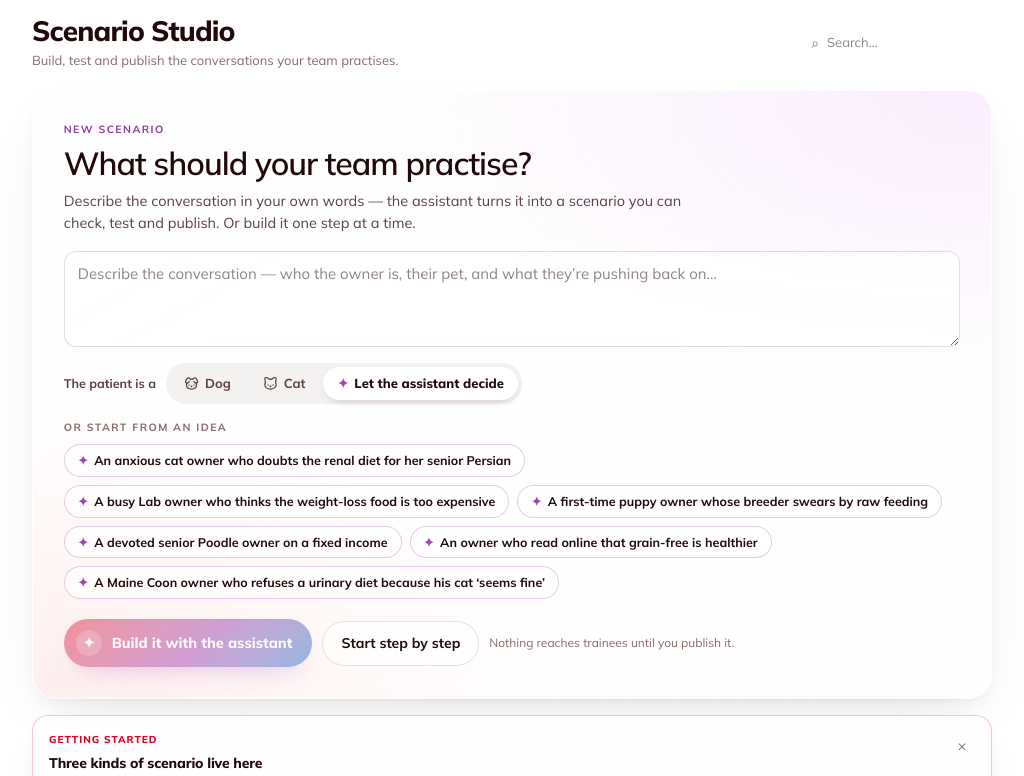
it: StudioEditor › won’t publish a scenario missing its core answers — it opens the checklist instead
(page scrolled)
Click the button "Start step by step".
click(401, 643)  # box [322,621,479,666]
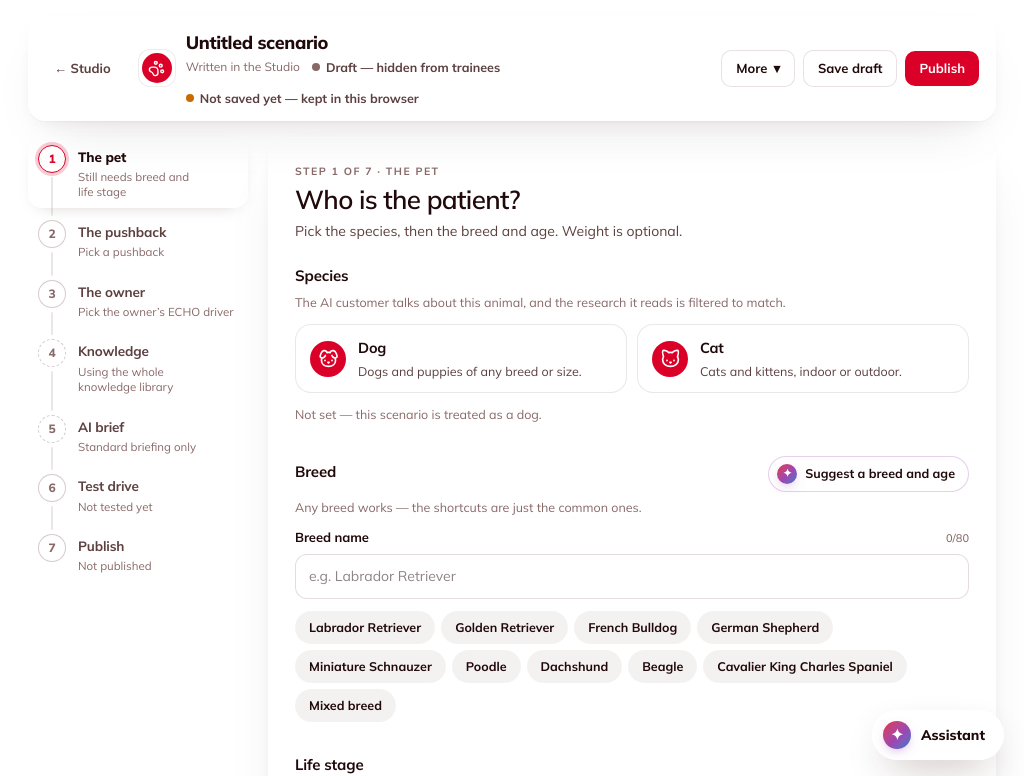
Click the button "Publish".
click(942, 68)  # box [906,50,979,86]
(page scrolled)
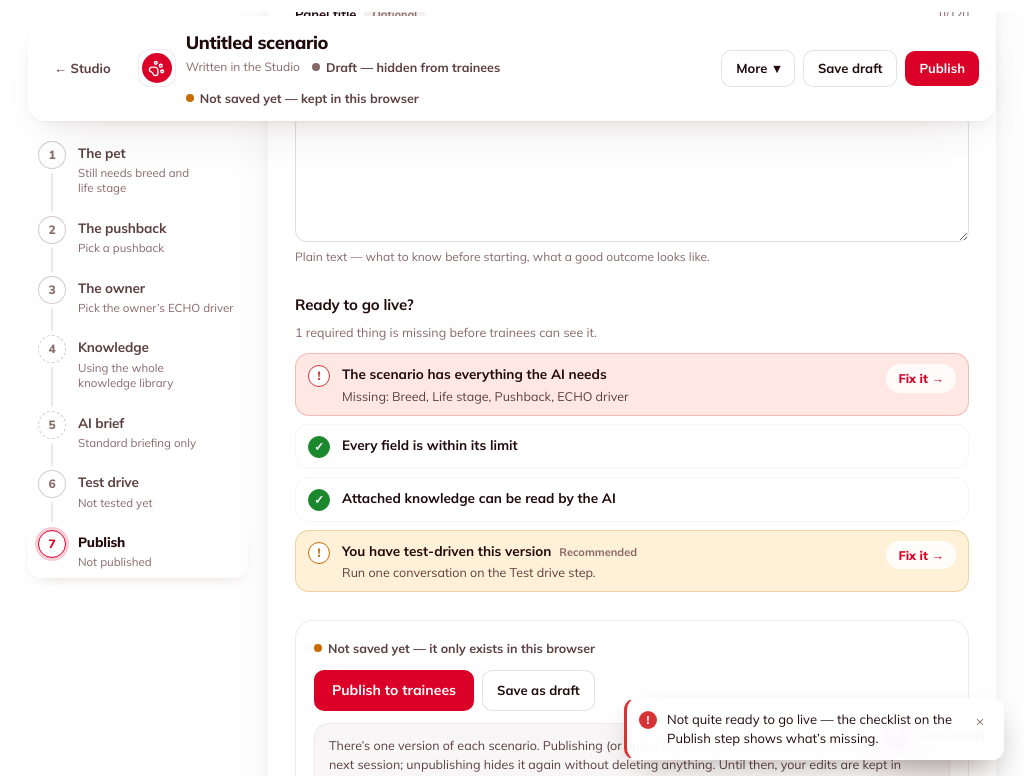
Expected: the text "Missing: Breed, Life stage, Pushback, ECHO driver" is shown, [342,388,628,404]
